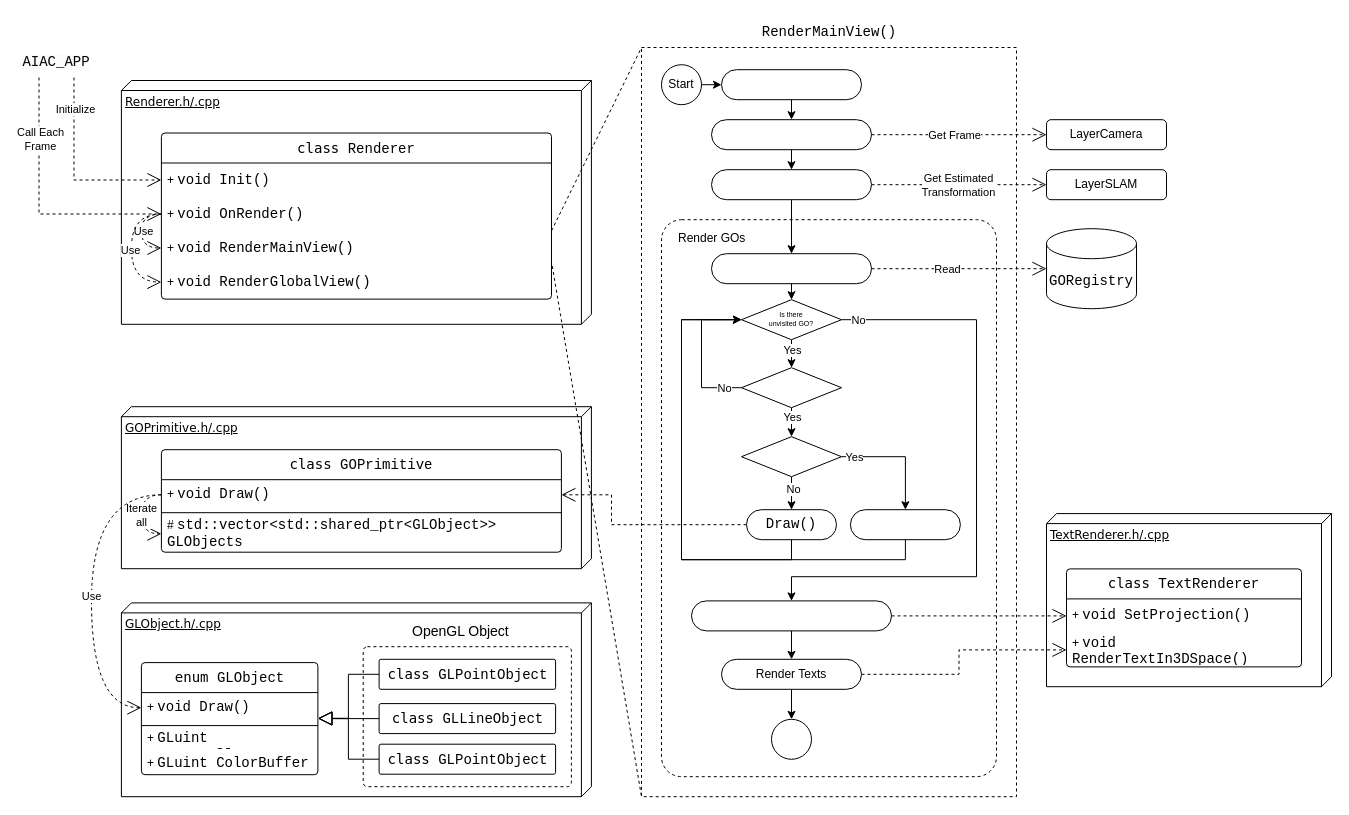
Image size: 1349x815. Some labels were removed from this diagram. Here are the shapes that lost their labels. From the top down, the centre of each, then its label:
At [791,84]: "Setup OpenGL env".
At [791,134]: "RenderCameraFrame()".
At [791,184]: "Update Projection Matrix".
At [791,268]: "GetAllGOs()".
At [791,387]: "Visible?".
At [791,456]: "Is Text?".
At [904,524]: "Put it in a temp array".
At [791,615]: "Update Projection Matrix For Text".
At [791,738]: "End".
